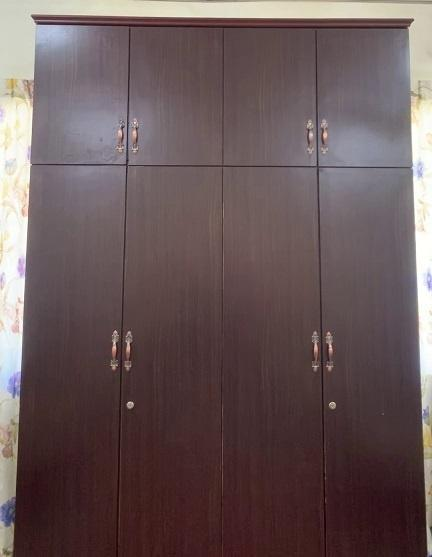Armario: (10, 8, 430, 552)
